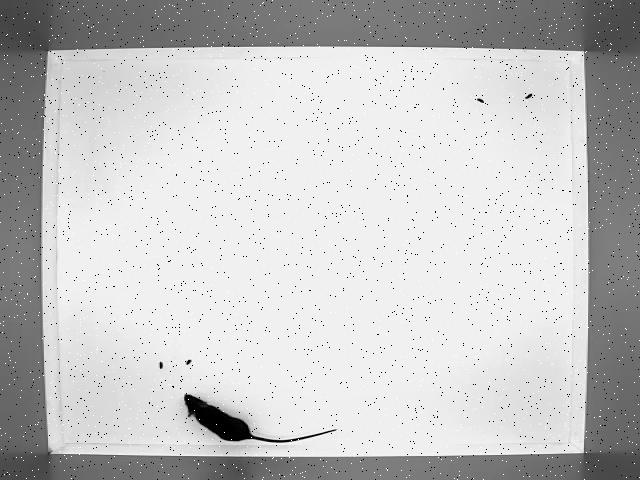Tikus: (179, 388, 342, 444)
